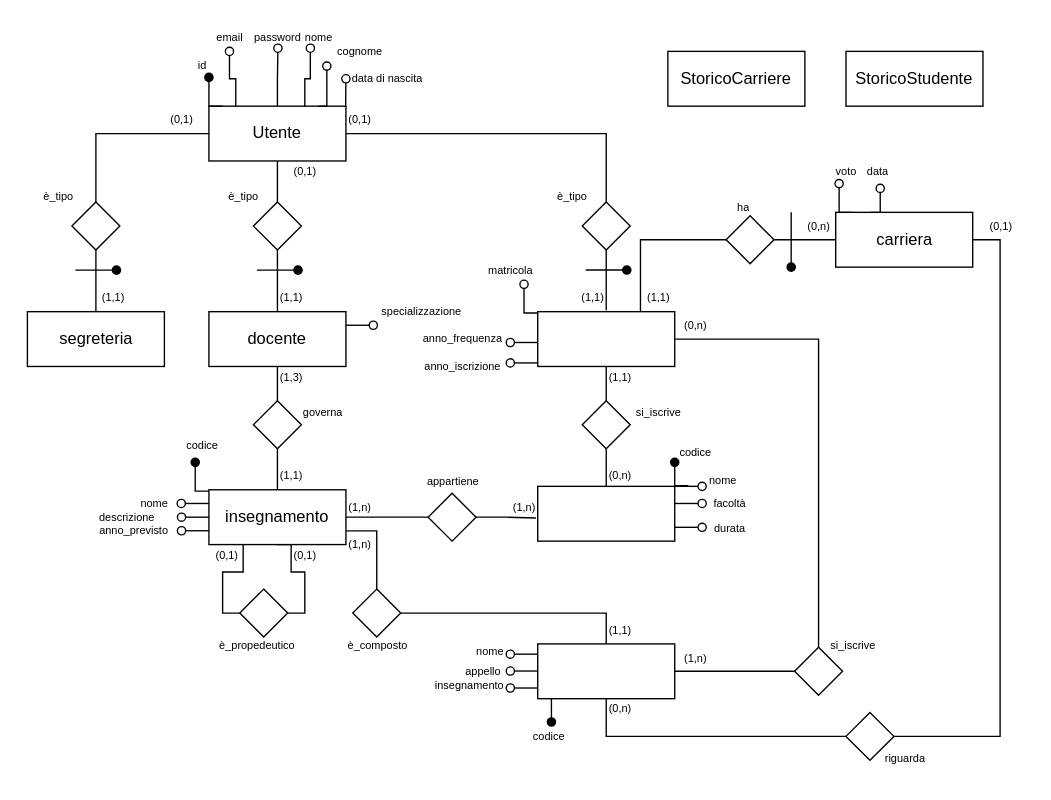
Some shapes in this 1051 by 800 pixel diagram are drawn without their labels. Each missing label, with the centre of its shape:
corso: point 605,513
esame: point 605,671
studente: point 605,338
